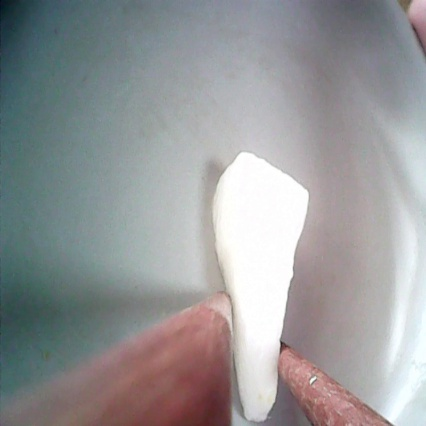white_chinese-yam: (205, 149, 320, 426)
